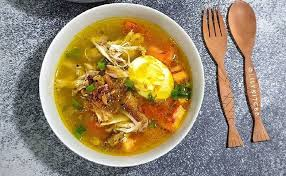soto: (41, 9, 217, 169)
